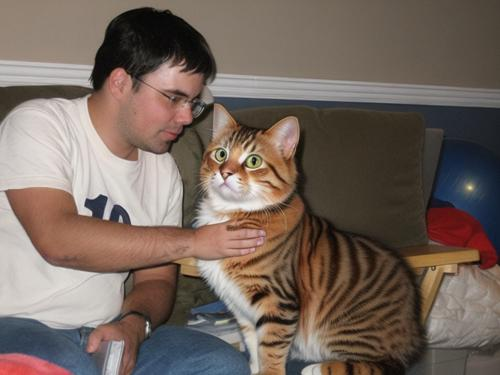cat: (194, 103, 428, 375)
person: (3, 4, 282, 373)
person/hand: (85, 311, 150, 375), (208, 212, 277, 260)
person/head: (97, 8, 218, 155)
